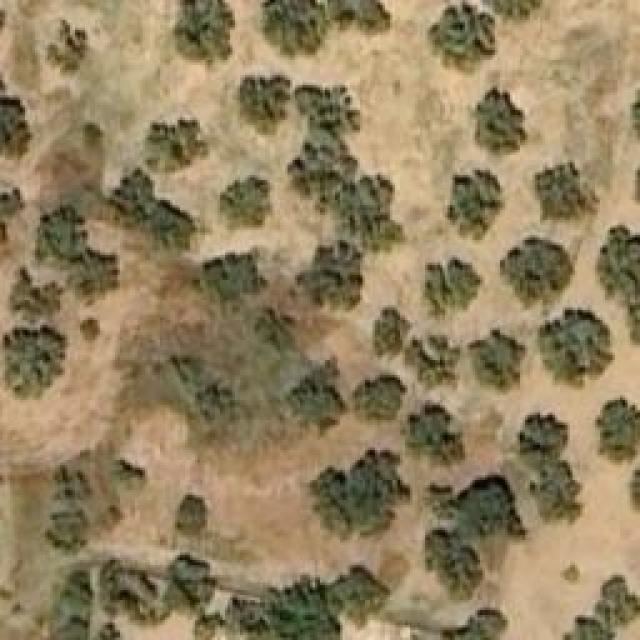Tree: (290, 143, 403, 248), (310, 447, 413, 535), (32, 205, 120, 295), (225, 580, 344, 640), (537, 308, 615, 391), (595, 222, 640, 350), (428, 0, 498, 78), (450, 475, 525, 540), (3, 325, 68, 398), (297, 242, 365, 310), (508, 235, 573, 303), (447, 170, 505, 243), (43, 468, 93, 551), (173, 0, 236, 65), (400, 405, 465, 468), (532, 162, 600, 220), (203, 255, 268, 315), (423, 258, 483, 323), (467, 330, 525, 393), (148, 118, 208, 178), (285, 370, 342, 433), (260, 0, 325, 55), (473, 88, 526, 153), (165, 550, 218, 615), (295, 83, 358, 136), (235, 75, 290, 135), (425, 535, 480, 595), (8, 267, 63, 325), (333, 565, 386, 623), (595, 395, 640, 463), (405, 335, 460, 390), (220, 175, 273, 230), (325, 0, 398, 38), (518, 413, 568, 468), (350, 372, 403, 420), (533, 465, 576, 520), (0, 95, 32, 165), (48, 20, 88, 73), (597, 577, 640, 624), (443, 610, 508, 639), (375, 308, 408, 361), (255, 308, 295, 351), (113, 458, 151, 499), (0, 187, 25, 245), (175, 493, 205, 536), (60, 570, 93, 608)
